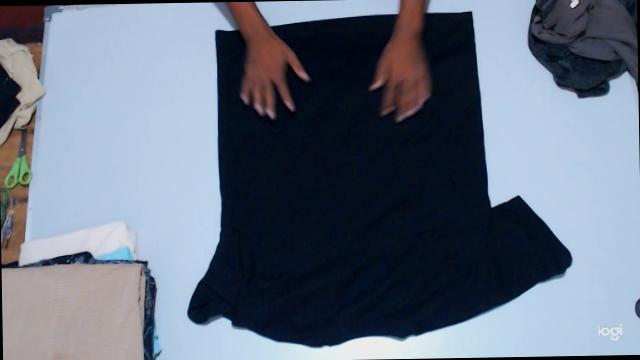new-garment: (189, 13, 572, 346)
